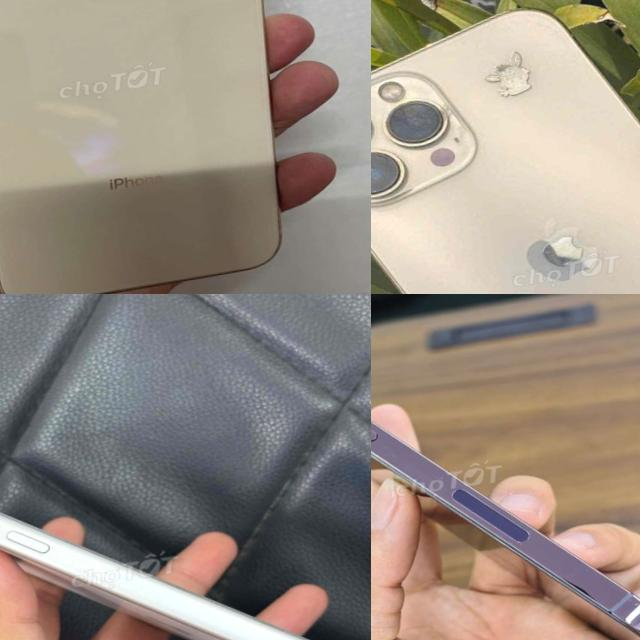gen_12_13: (371, 0, 640, 294)
gen_14: (371, 294, 640, 640)
gen_17: (0, 512, 309, 640)
gen_7_8: (0, 0, 323, 294)
